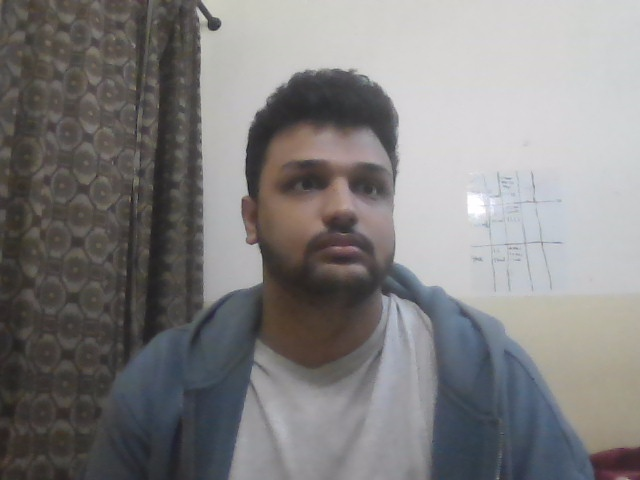awake: (225, 66, 465, 326)
